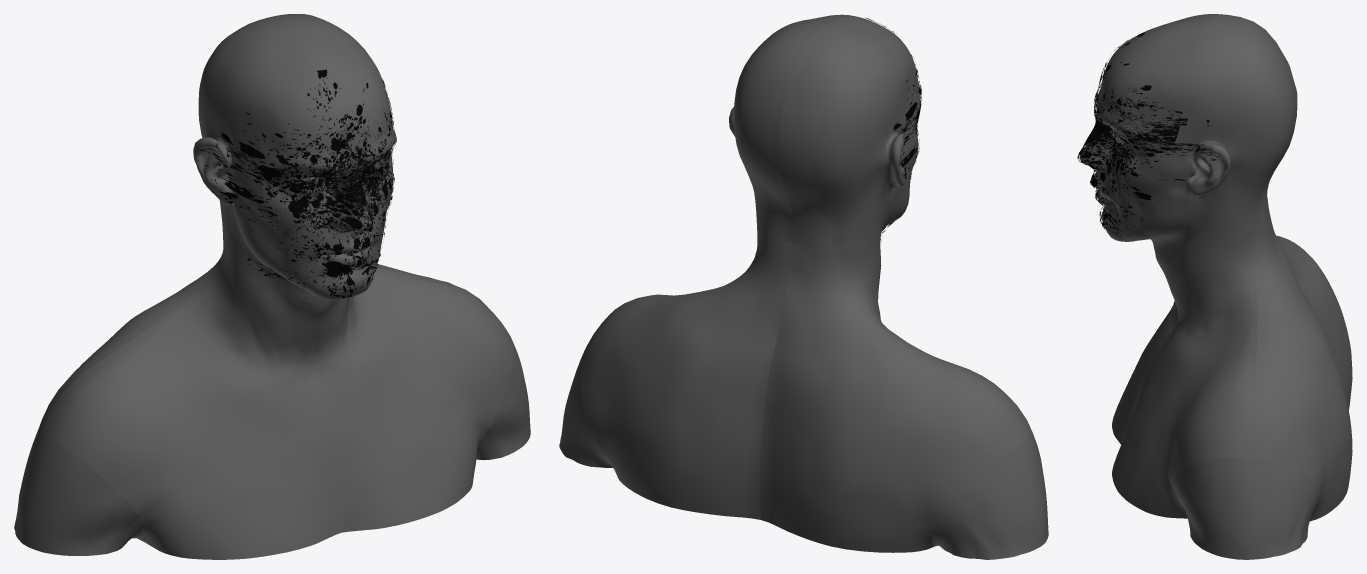
File: Mannequin.glb
3 views of the same model, side by side, from view 1: azimuth 30°, elevation 25°; view 2: azimuth 150°, elevation 25°; view 3: azimuth 270°, elevation 25° (orthographic). The views are drawn at different scales.
Parts seen in each view (by area): view 1: body, —Pngtree—black ink dot ink splash_4630748; view 2: body, —Pngtree—black ink dot ink splash_4630748; view 3: body, —Pngtree—black ink dot ink splash_4630748.
Boxes of the visible parts, left/top/right/bottom form: body: left=14, top=14, right=530, bottom=559; —Pngtree—black ink dot ink splash_4630748: left=197, top=69, right=396, bottom=297; body: left=559, top=14, right=1048, bottom=559; —Pngtree—black ink dot ink splash_4630748: left=865, top=17, right=921, bottom=239; body: left=1080, top=14, right=1352, bottom=559; —Pngtree—black ink dot ink splash_4630748: left=1077, top=32, right=1218, bottom=236.
Size of the model in its own units: 0.5143 by 0.464 by 0.2707.
3 materials, 1 textured.
